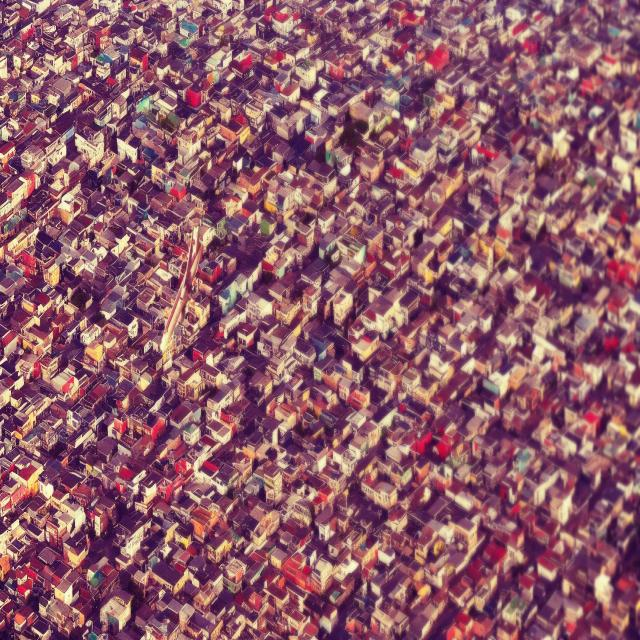airplane: (159, 224, 202, 354)
